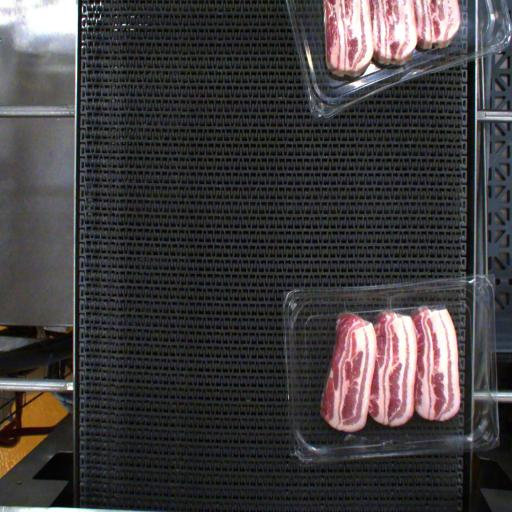packaging-error: (338, 298, 358, 320), (380, 292, 398, 310)
unsealed: (405, 296, 454, 316)
